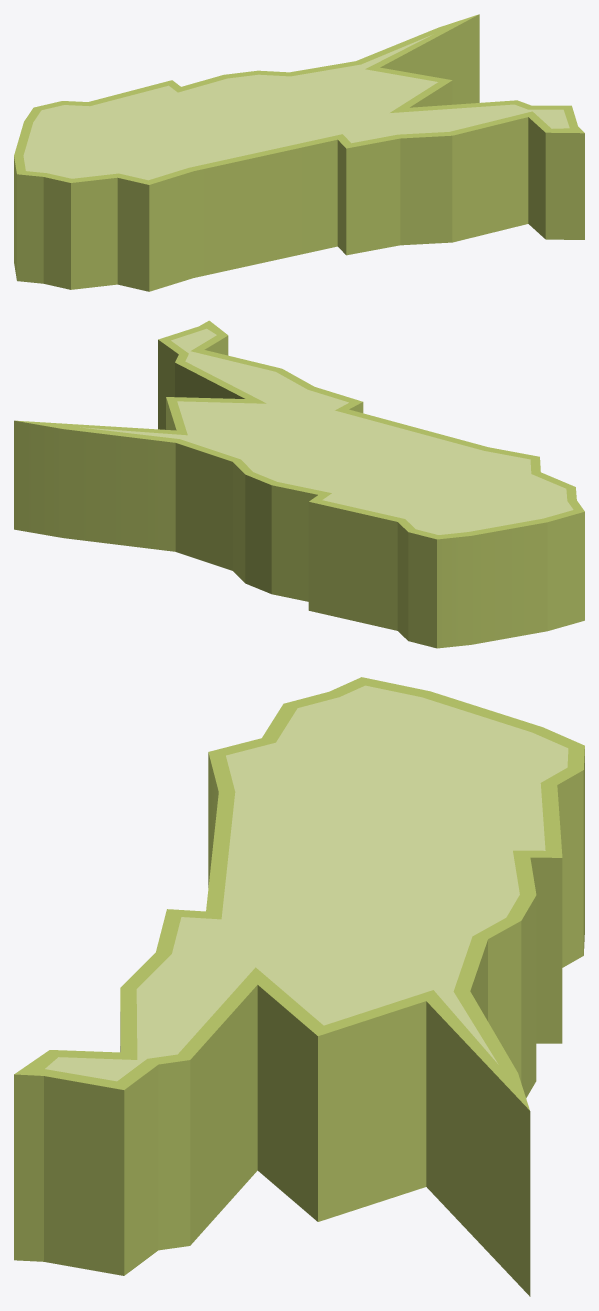
File: Islands4.006.fbx
3 views of the same model, one above another, from view 1: azimuth 30°, elevation 25°; view 2: azimuth 150°, elevation 25°; view 3: azimuth 270°, elevation 25° (orthographic). The views are drawn at different scales.
Visible parts, largest first — view 1: Island4.006; view 2: Island4.006; view 3: Island4.006.
Part boxes in pixels (<box>): Island4.006: <box>14,14,584,291</box>; Island4.006: <box>14,320,584,648</box>; Island4.006: <box>14,677,584,1296</box>.
Size of the model in its own units: 125 by 25 by 69.6.
